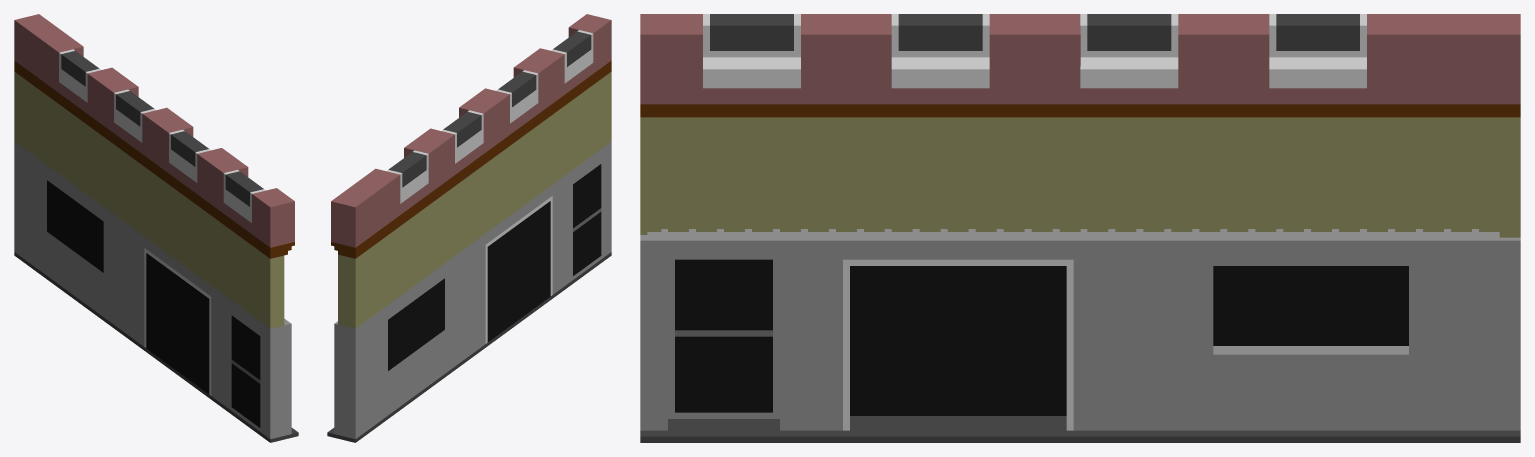
Rendered from Buildings.obj.
3 views of the same model, side by side, from view 1: azimuth 30°, elevation 25°; view 2: azimuth 150°, elevation 25°; view 3: azimuth 270°, elevation 25° (orthographic). The views are drawn at different scales.
Bounding box in the file's own units: 8 × 64 × 126.
1 material, 1 textured.
